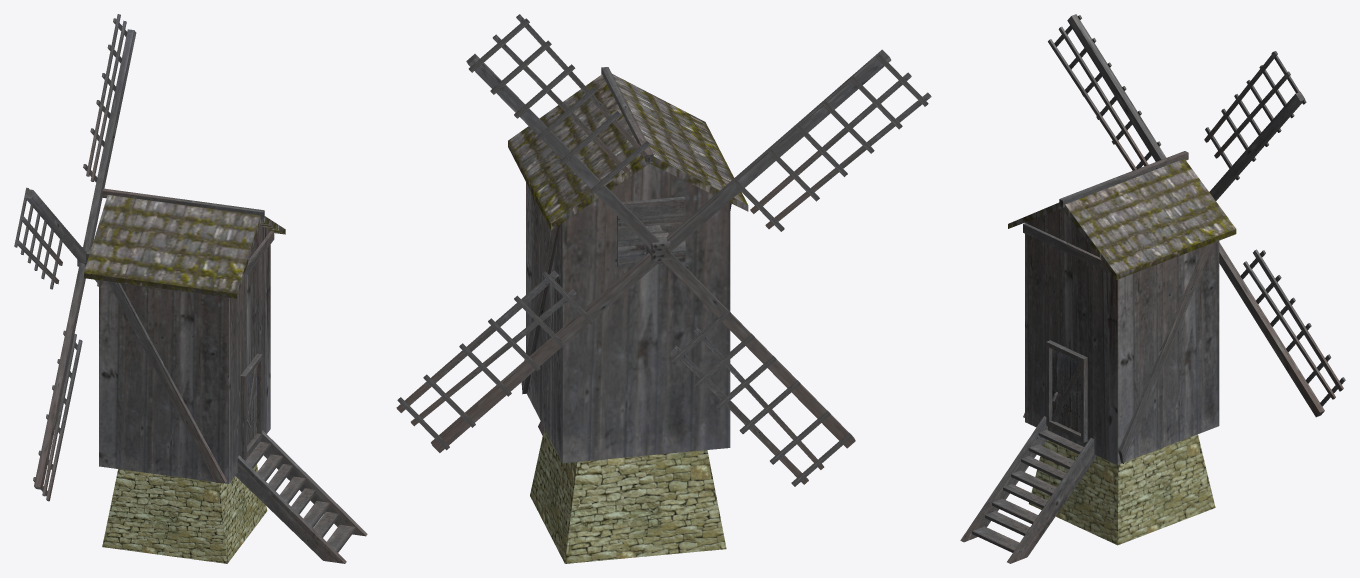
File: casa1.obj
3 views of the same model, side by side, from view 1: azimuth 30°, elevation 25°; view 2: azimuth 150°, elevation 25°; view 3: azimuth 270°, elevation 25° (orthographic). The views are drawn at different scales.
Parts seen in each view (by area): view 1: Cube.002_Cube.000; view 2: Cube.002_Cube.000; view 3: Cube.002_Cube.000.
Part boxes in pixels (left/top/right/bottom): Cube.002_Cube.000: left=14, top=14, right=367, bottom=563; Cube.002_Cube.000: left=396, top=14, right=931, bottom=563; Cube.002_Cube.000: left=960, top=14, right=1345, bottom=563.
Bounding box in the file's own units: 15.91 × 20.89 × 15.88.
Materials: 1 (1 with a texture image).
